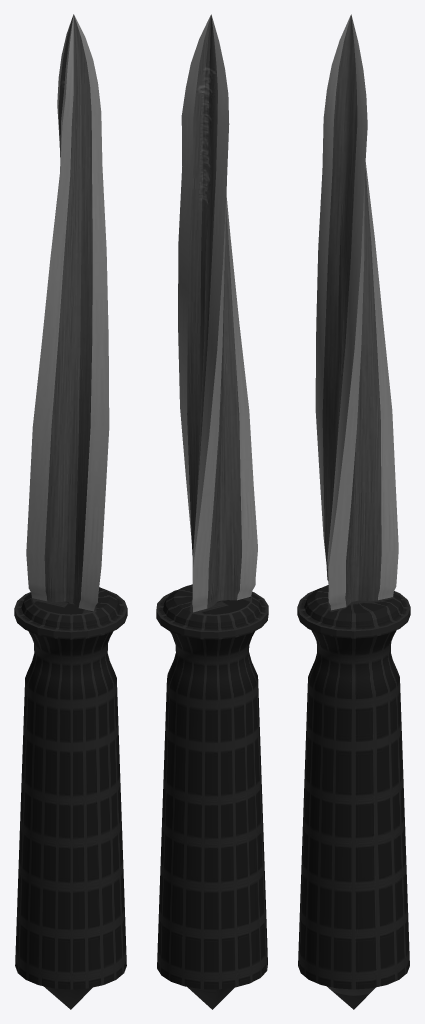
Rendered from knife-model.glb.
3 views of the same model, side by side, from view 1: azimuth 90°, elevation 25°; view 2: azimuth 150°, elevation 25°; view 3: azimuth 270°, elevation 25° (orthographic).
Visible parts, largest first — view 1: pCylinder1; view 2: pCylinder1; view 3: pCylinder1.
Boxes of the visible parts, x1=… form: pCylinder1: x1=14, y1=14, x2=127, y2=1009; pCylinder1: x1=156, y1=14, x2=268, y2=1009; pCylinder1: x1=297, y1=14, x2=410, y2=1009.
Size of the model in its own units: 0.0364 by 0.3529 by 0.0364.
1 material, 1 textured.
